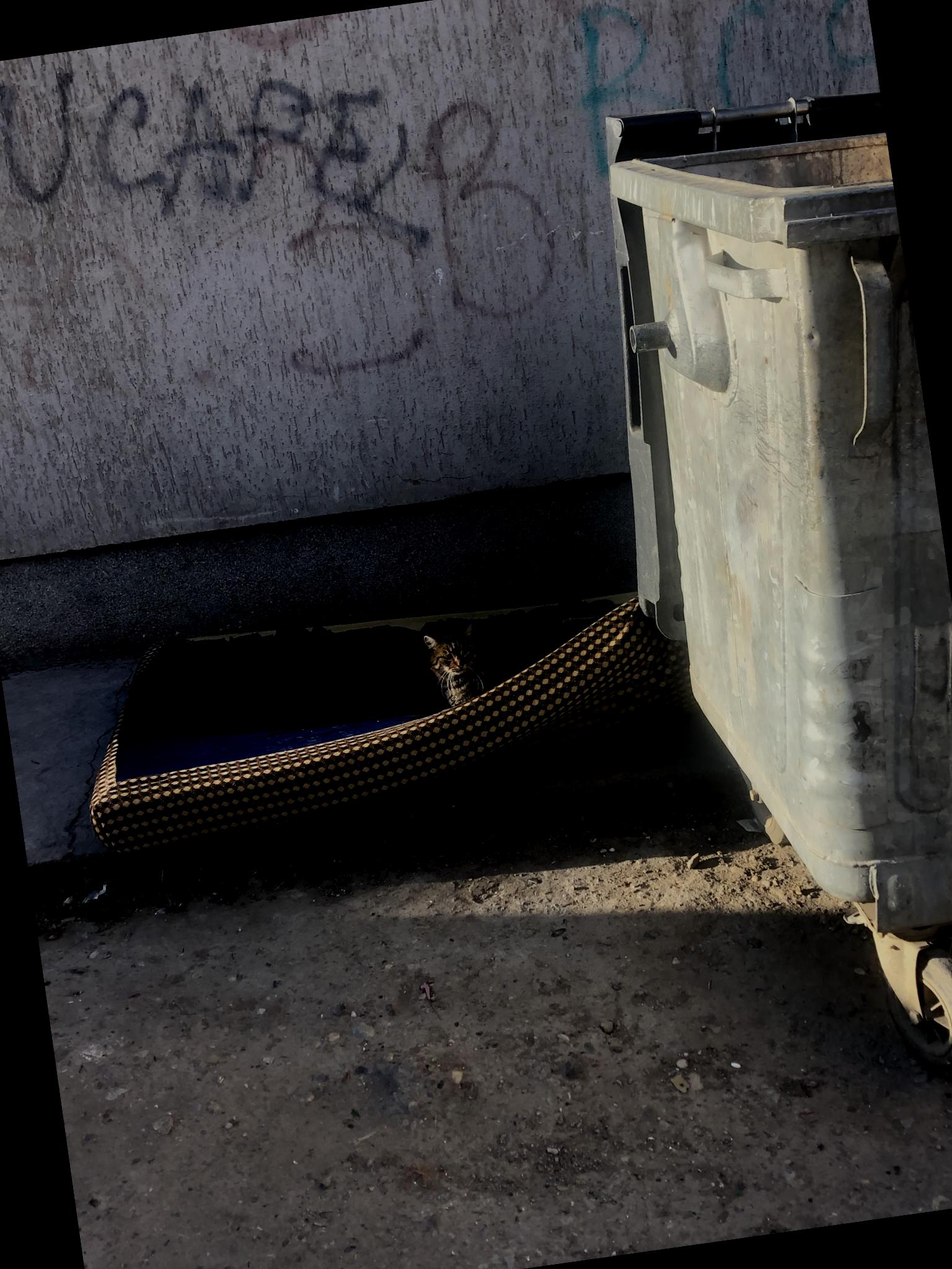macka: (421, 621, 490, 712)
